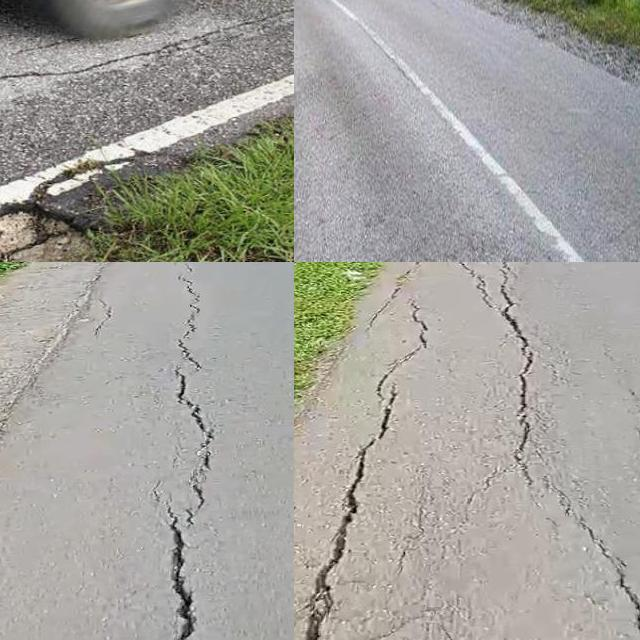Memanjang: (476, 262, 640, 640), (294, 300, 441, 640), (150, 262, 223, 640)
Pinggir: (0, 175, 203, 262)
